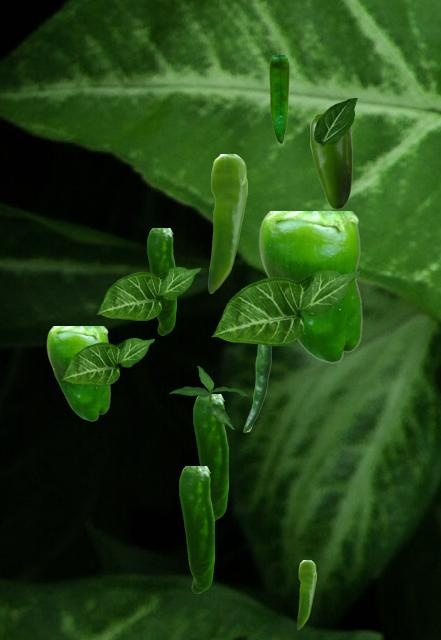green_chili: (258, 211, 361, 362), (46, 326, 109, 420), (208, 154, 246, 292), (193, 394, 227, 520), (179, 466, 213, 592), (310, 114, 351, 208), (147, 228, 175, 334), (243, 345, 270, 431), (269, 55, 288, 142), (297, 560, 315, 628)
